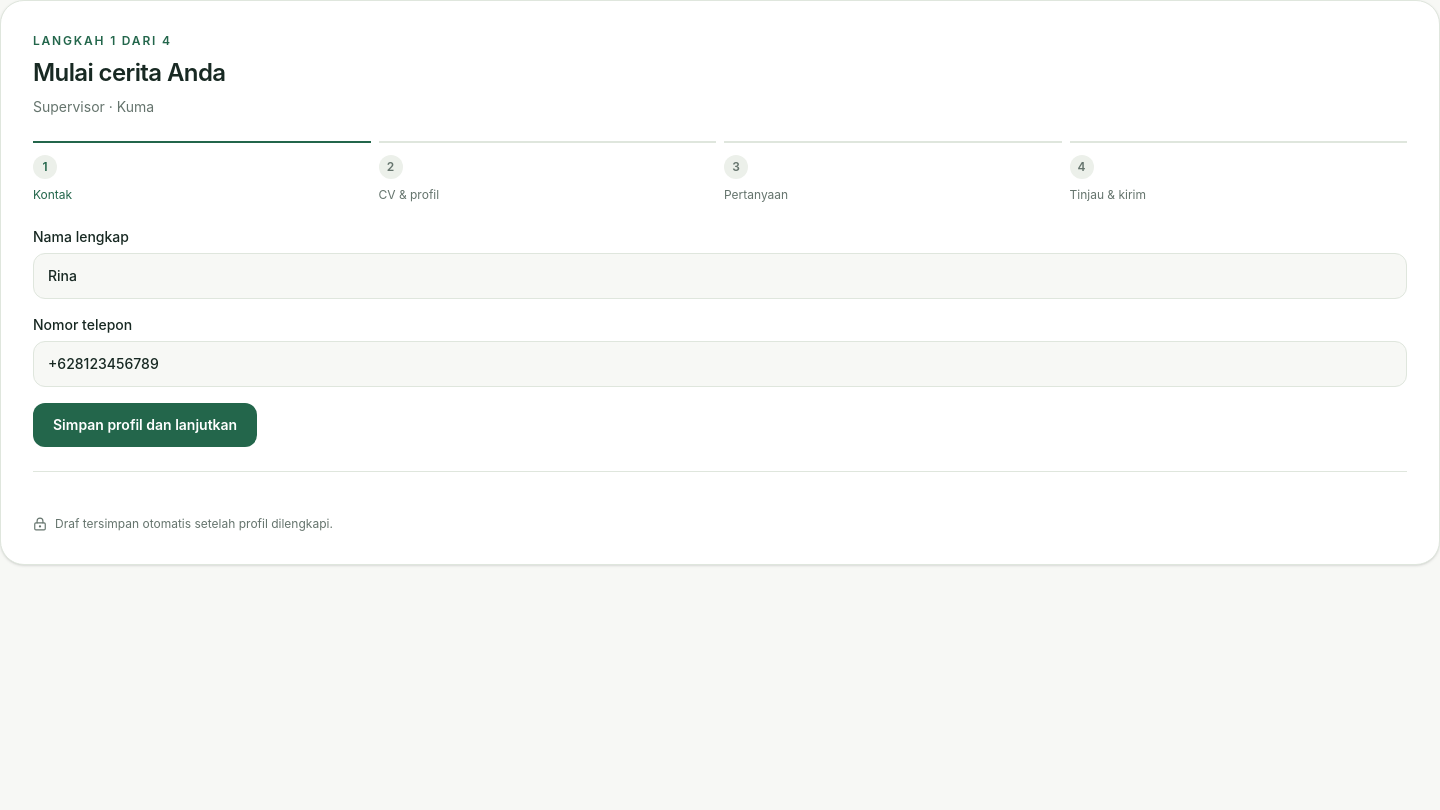
Test case: automatically selects the newest eligible upload by date and preserves a manual choice
The width and height of the screenshot is (1440, 810).
Later steps or results of the test are not shown.
Click the button "Simpan profil dan lanjutkan". click: point(145, 425)
box: [33,403,257,447]
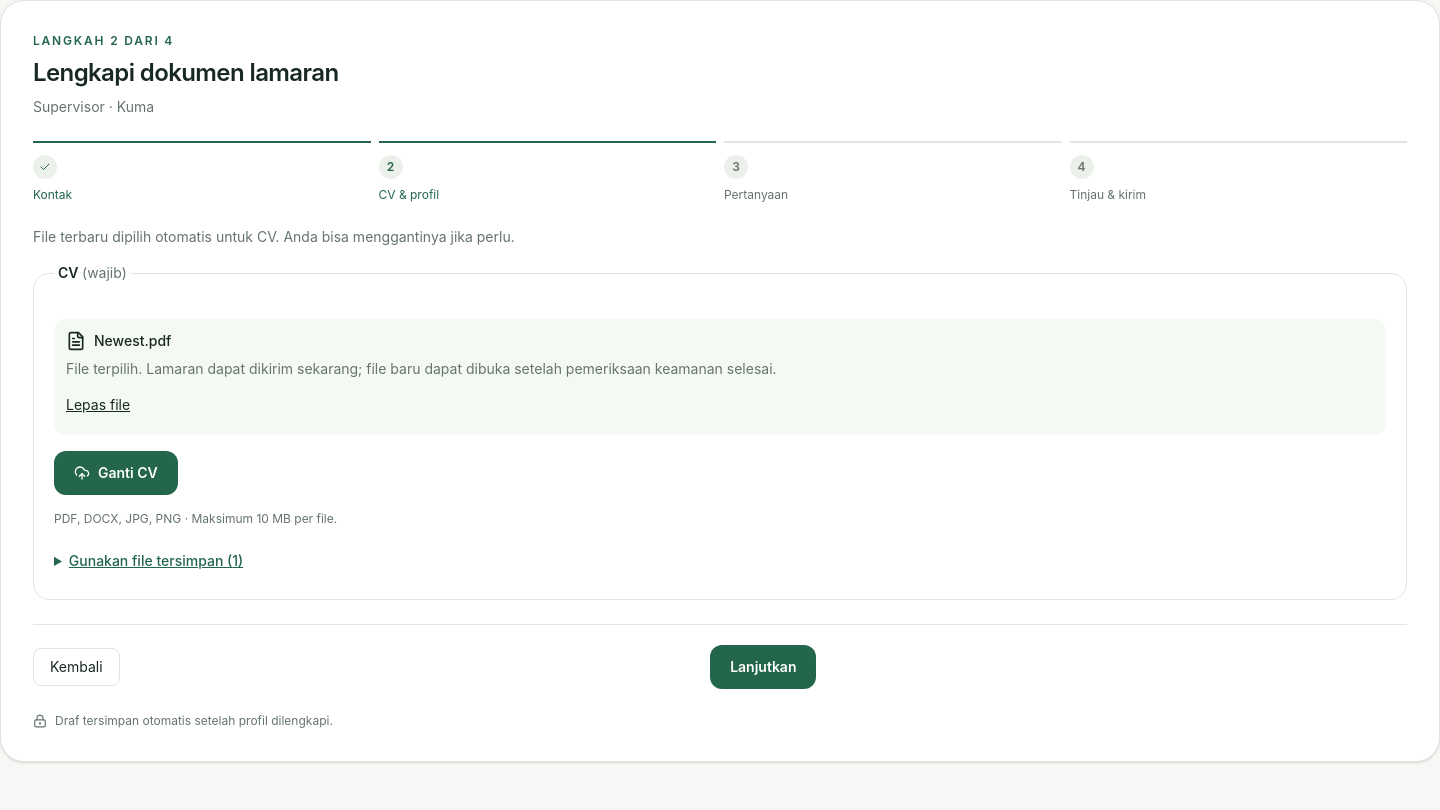
Check: the heading "Lengkapi dokumen lamaran" is shown, box [33,58,338,87]
Check: the file field labelled "Ganti CV" is shown, box [54,451,178,495]
Check: the text "Newest.pdf" is shown, box [94,332,171,349]
